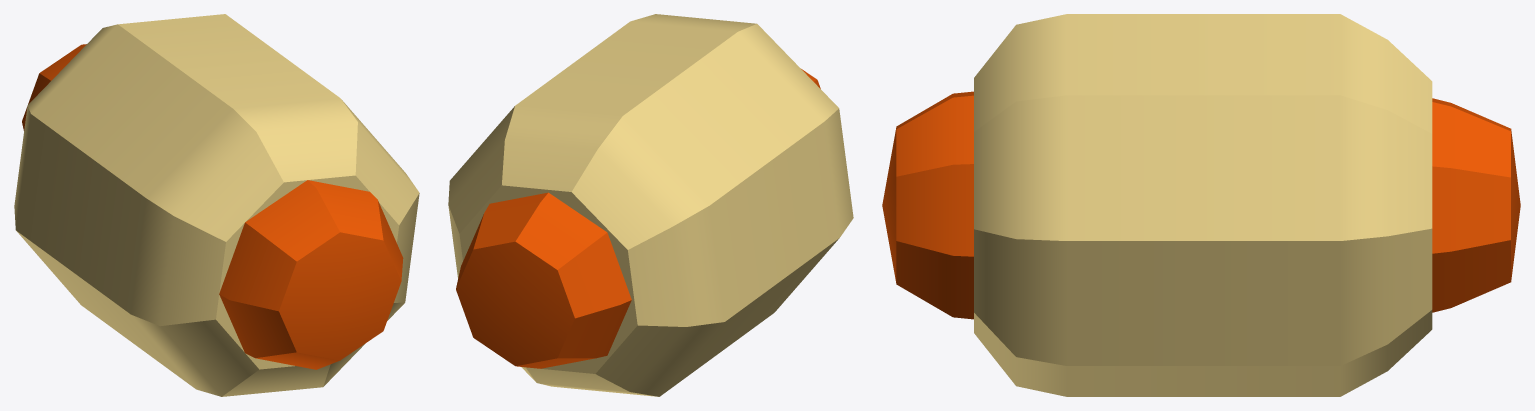
Rendered from Treat_Hotdog.fbx.
3 views of the same model, side by side, from view 1: azimuth 30°, elevation 25°; view 2: azimuth 150°, elevation 25°; view 3: azimuth 270°, elevation 25° (orthographic). The views are drawn at different scales.
Visible parts, largest first — view 1: bread_geo, hotdog_geo; view 2: bread_geo, hotdog_geo; view 3: bread_geo, hotdog_geo.
Part boxes in pixels (bbox=[...]): bread_geo: bbox=[14, 14, 419, 396]; hotdog_geo: bbox=[22, 44, 403, 369]; bread_geo: bbox=[448, 14, 853, 396]; hotdog_geo: bbox=[456, 69, 820, 368]; bread_geo: bbox=[974, 14, 1432, 396]; hotdog_geo: bbox=[882, 91, 1520, 319].
Bounding box in the file's own units: 2.99 × 2.99 × 5.06.
